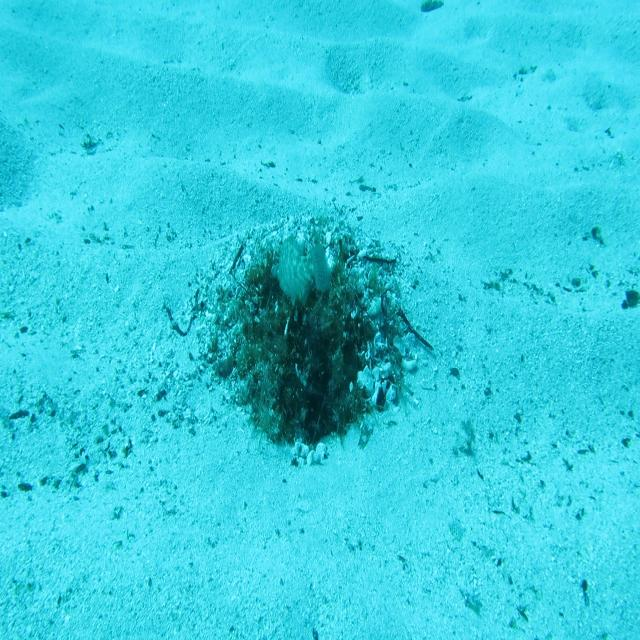NIP_CORE: (270, 233, 333, 303)
core_nest: (274, 270, 331, 307)
nest: (186, 188, 424, 471)
